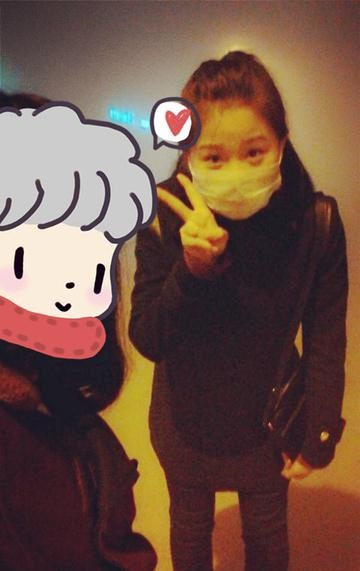face_mask: (191, 99, 278, 216)
